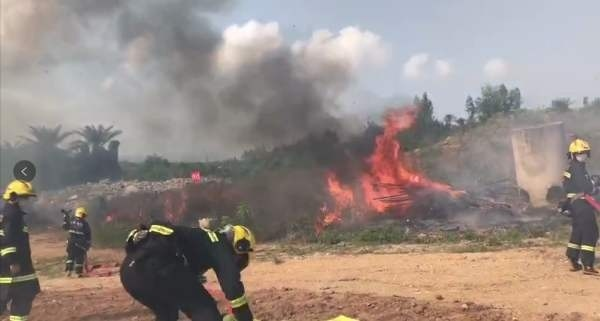fire: (312, 105, 464, 228)
